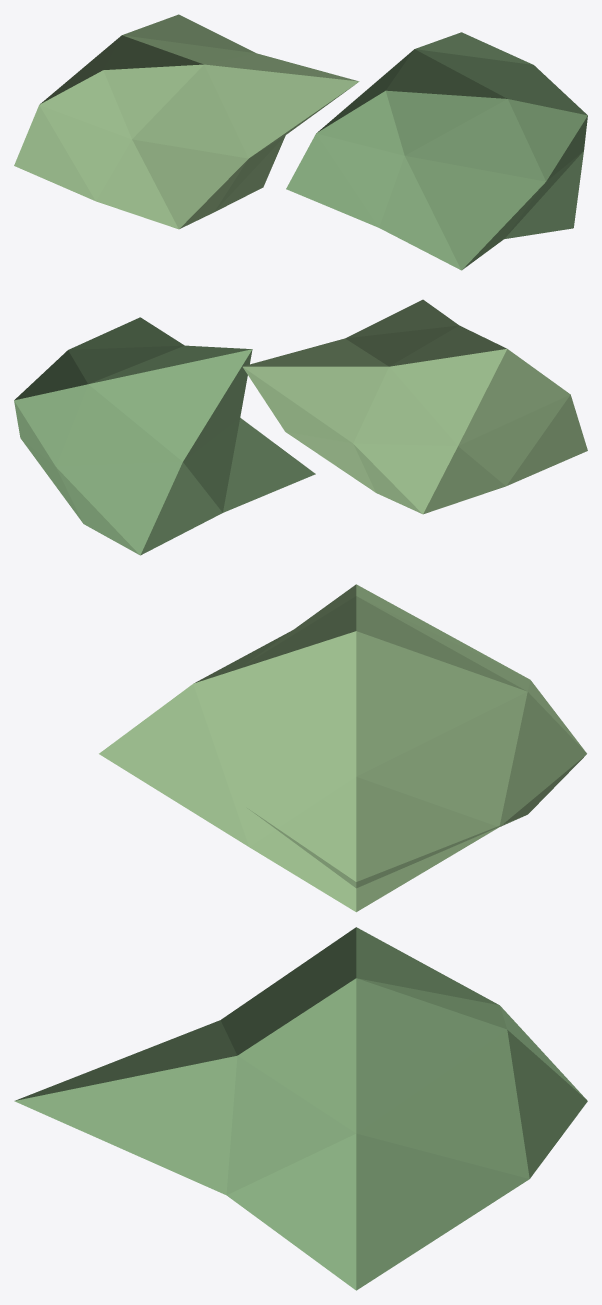
Rendered from shrub_v12.glb.
3 renders of one model, top to bottom at view 1: azimuth 30°, elevation 25°; view 2: azimuth 150°, elevation 25°; view 3: azimuth 270°, elevation 25°, orthographic. The views are drawn at different scales.
Parts seen in each view (by area): view 1: lod0; view 2: lod0; view 3: lod0.
Part boxes in pixels (left/top/right/bottom): lod0: left=14, top=14, right=587, bottom=270; lod0: left=14, top=299, right=587, bottom=555; lod0: left=14, top=584, right=587, bottom=1290.
Size of what is drawn, in the model's own units: 1.34 by 0.7255 by 0.7608.
